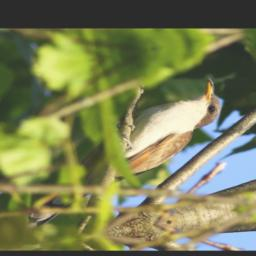Cuckoo: (0, 73, 253, 233)
